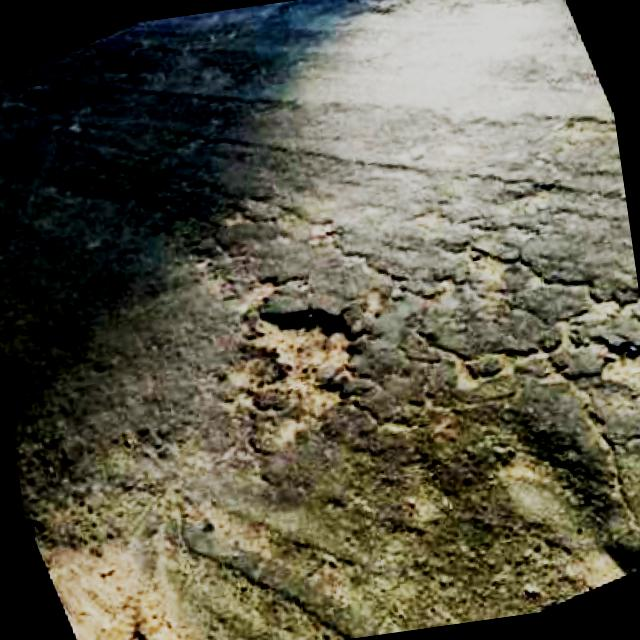pothole: (226, 298, 372, 439), (583, 288, 640, 401)
